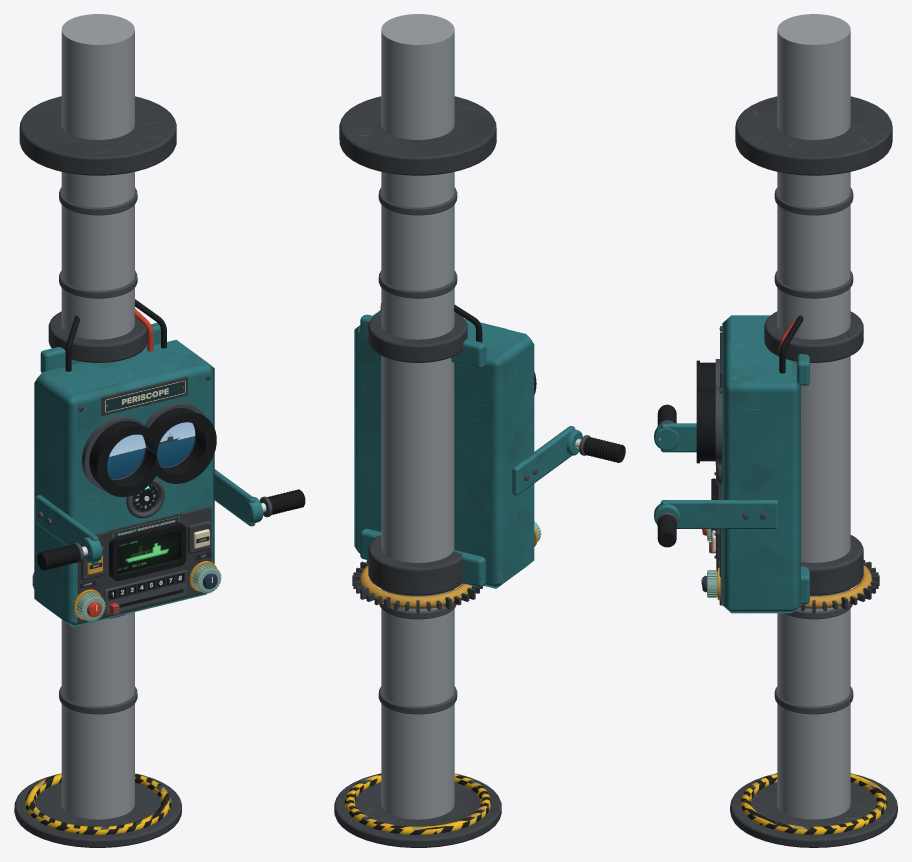
Rendered from Periscope.glb.
The picture shows the model from 3 angles, left to right: view 1: azimuth 30°, elevation 25°; view 2: azimuth 150°, elevation 25°; view 3: azimuth 270°, elevation 25°; orthographic projection.
Parts seen in each view (by area): view 1: Periscope_Body, Periscope_Head, Periscope_HandleL, Periscope_HandleR, Periscope_ZoomKnob, Periscope_TiltKnob; view 2: Periscope_Body, Periscope_Head, Periscope_HandleL; view 3: Periscope_Body, Periscope_Head, Periscope_HandleR.
Part boxes in pixels (x1,y1,x2,y2): Periscope_Body: (14,14,181,847); Periscope_Head: (34,299,263,627); Periscope_HandleL: (37,542,87,570); Periscope_HandleR: (259,489,305,517); Periscope_ZoomKnob: (77,592,105,621); Periscope_TiltKnob: (192,564,221,593); Periscope_Body: (334,14,501,847); Periscope_Head: (354,303,582,595); Periscope_HandleL: (575,435,625,462); Periscope_Body: (730,14,897,847); Periscope_Head: (654,311,863,613); Periscope_HandleR: (656,512,677,547).
Size of the model in its own units: 1.14 by 3.3 by 0.93.
Materials: 26 (19 with a texture image).
